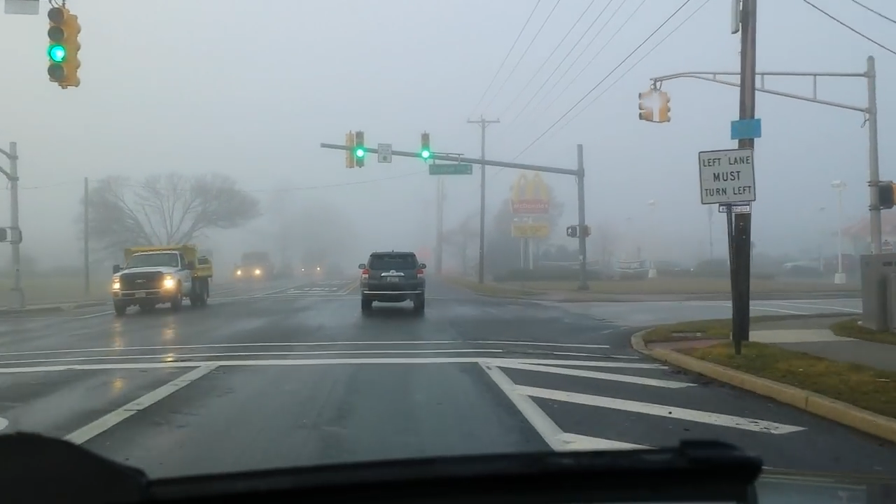bus: (107, 243, 215, 317), (300, 252, 323, 278)
car: (357, 248, 429, 316), (230, 251, 273, 282), (822, 253, 864, 273), (779, 256, 829, 271), (690, 257, 728, 274), (650, 259, 687, 276)
